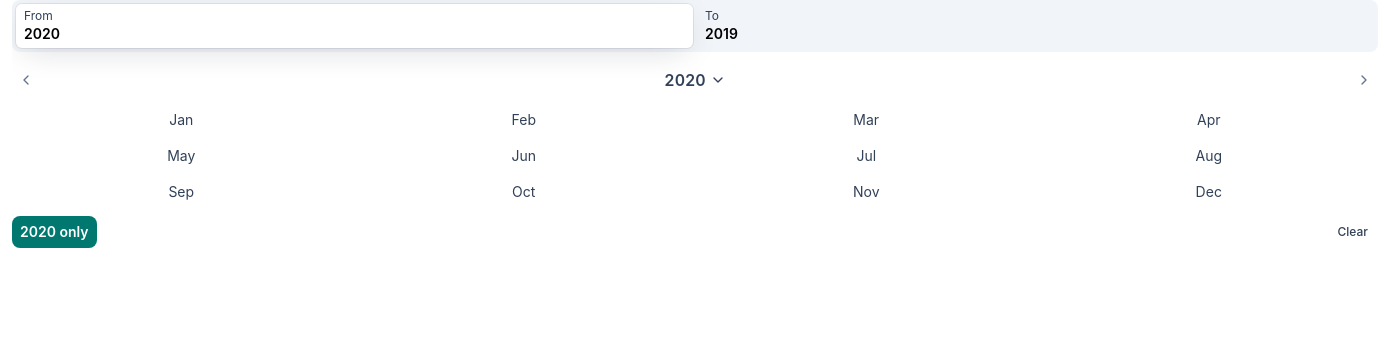
Test case: DateRangeForm negative scenarios › warns for an end year before the start year
Click the tab "To 2019" at (721, 34), box [697,4,1374,48]
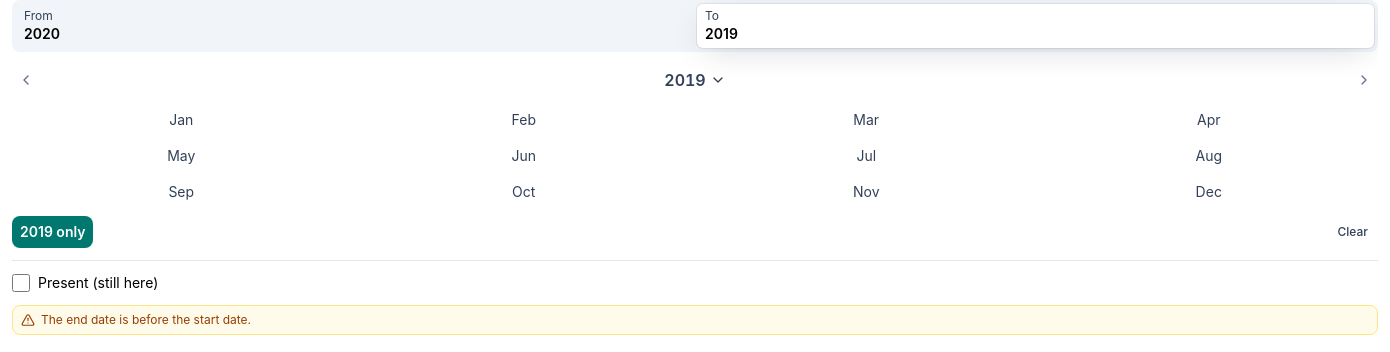
Expected: the message "The end date is before the start date." is shown, [12,305,1378,335]
